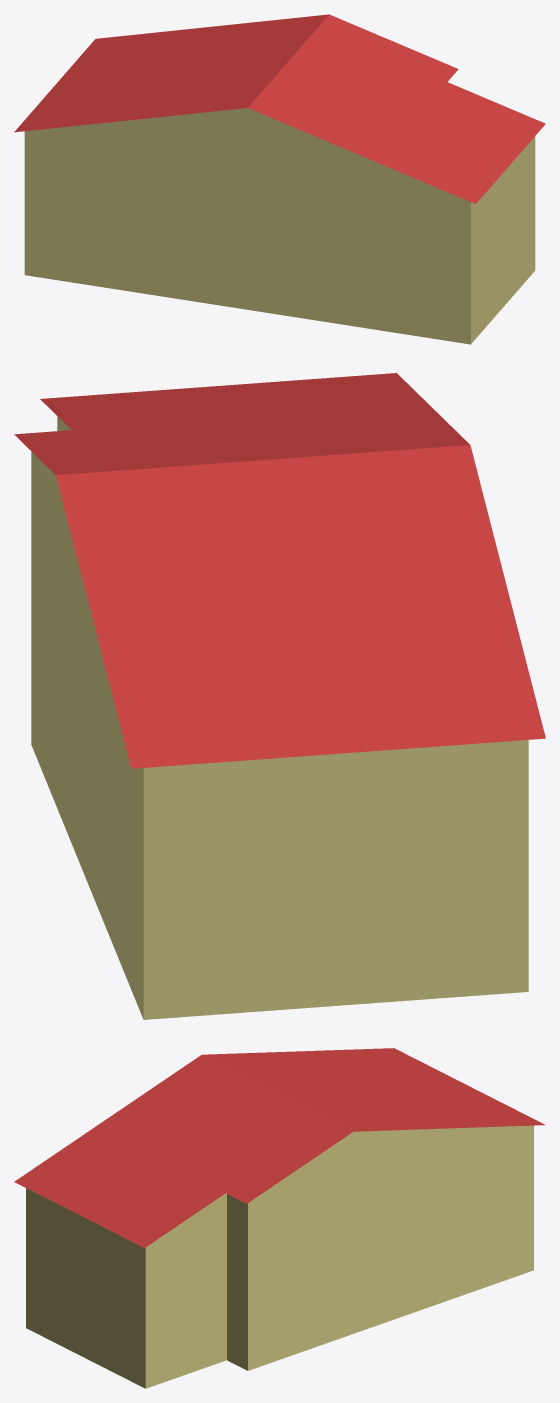
3 views of the same model, one above another, from view 1: azimuth 30°, elevation 25°; view 2: azimuth 150°, elevation 25°; view 3: azimuth 270°, elevation 25° (orthographic). The views are drawn at different scales.
Bounding box in the file's own units: 27.94 × 31.39 × 13.47.
